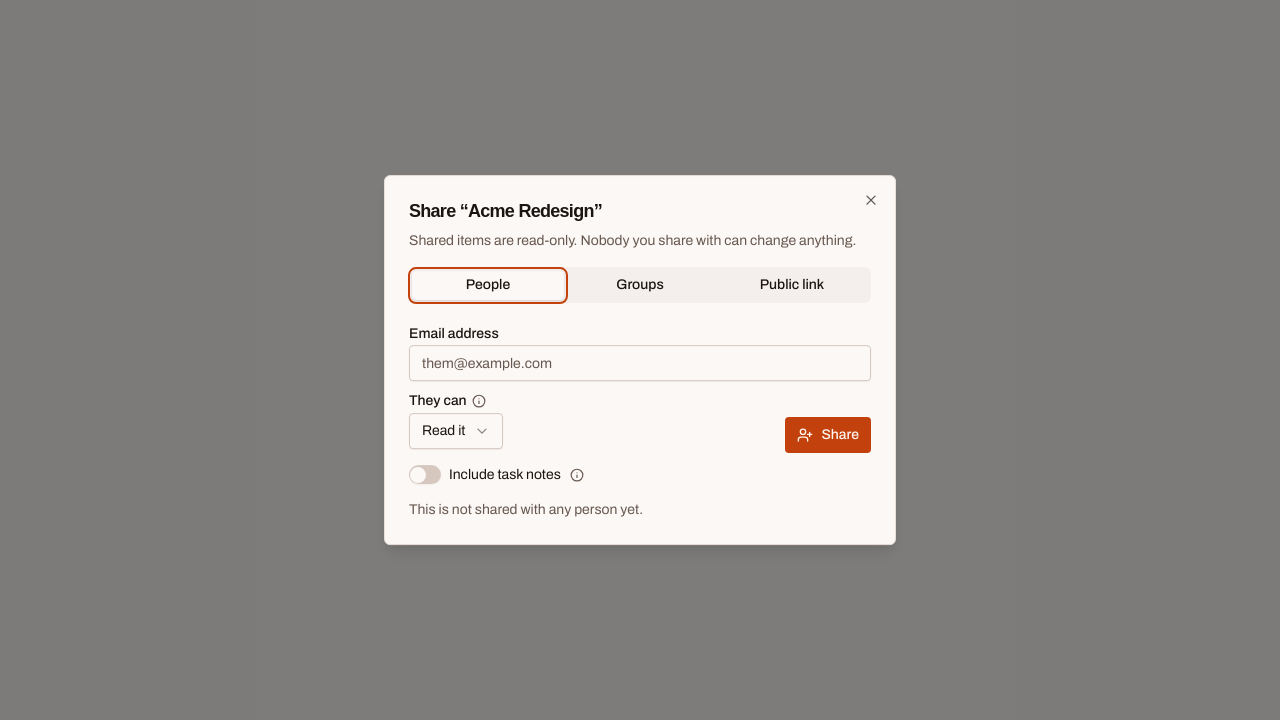
Test: ShareDialog › People tab › still reports the share as succeeded when the invite email fails to send
Step 1. Type "friend@example.com" into the field labelled "Email address" → (640, 364), box left=409, top=346, right=871, bottom=382
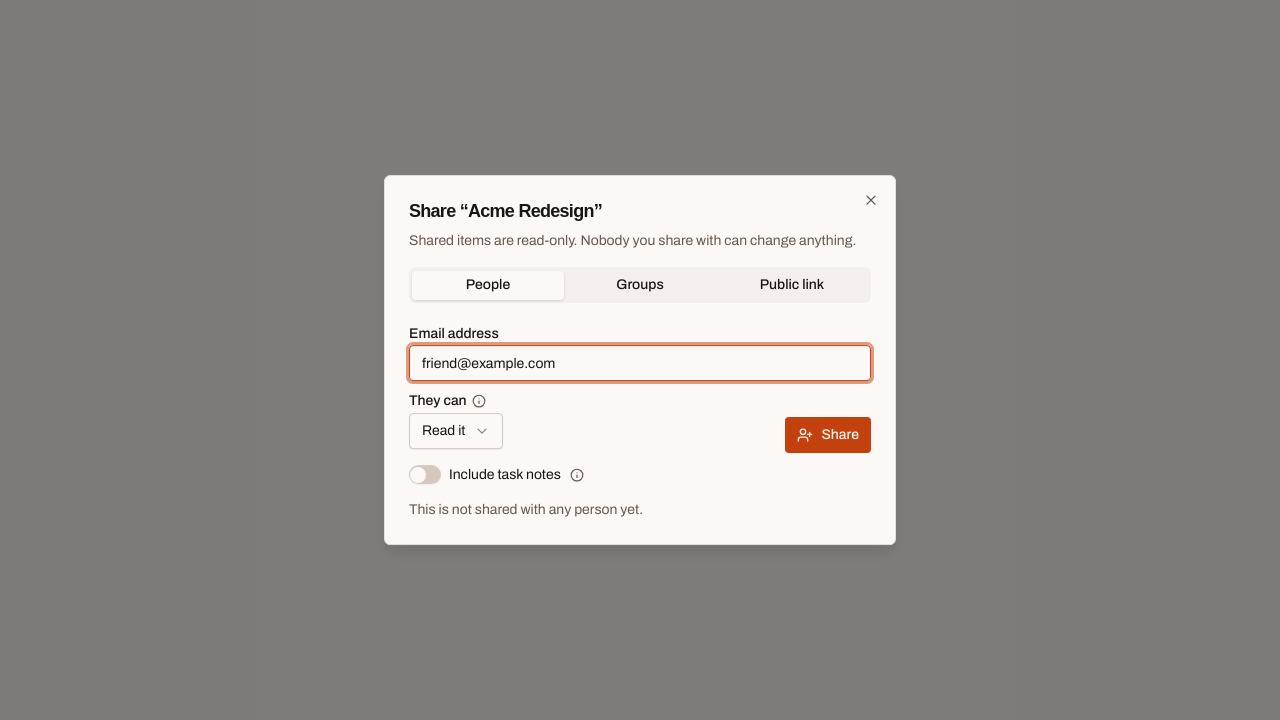
Step 2. Click the button "Share" → (828, 436), box left=785, top=418, right=871, bottom=454
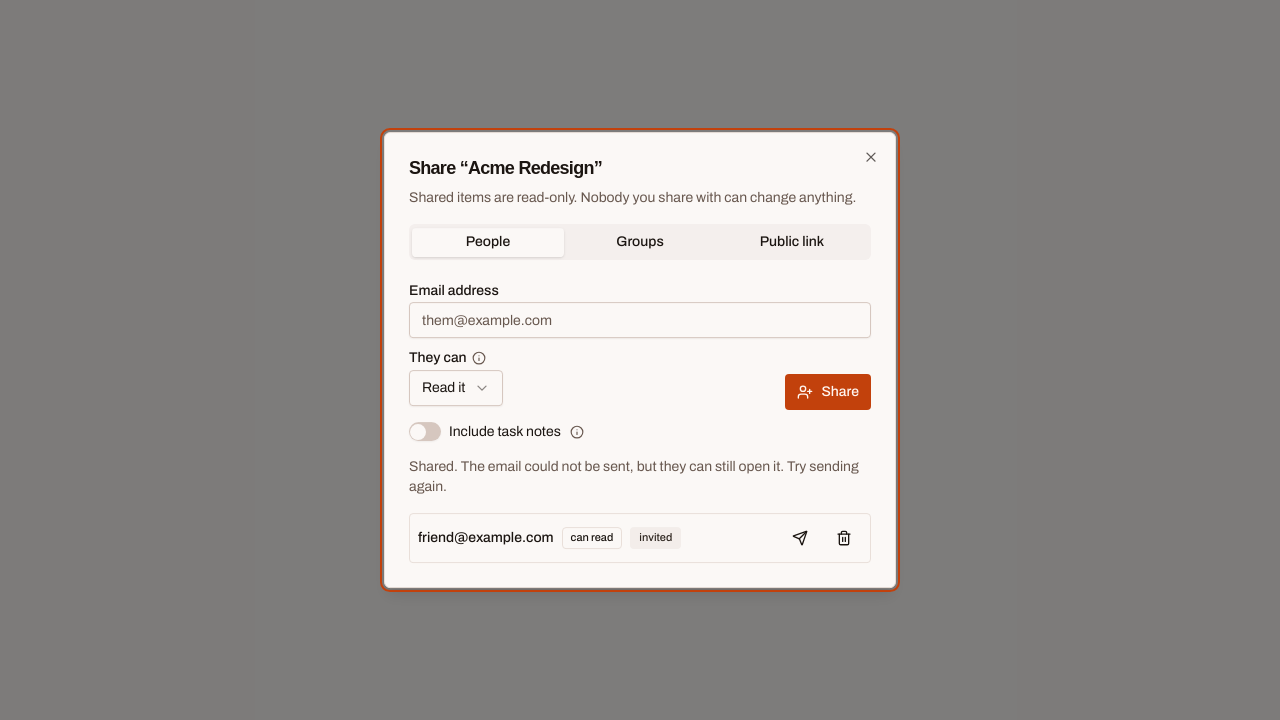
expect the text "Shared. The email could not be sent, but they can still open it. Try sending again." is shown: met, box left=409, top=459, right=859, bottom=494
